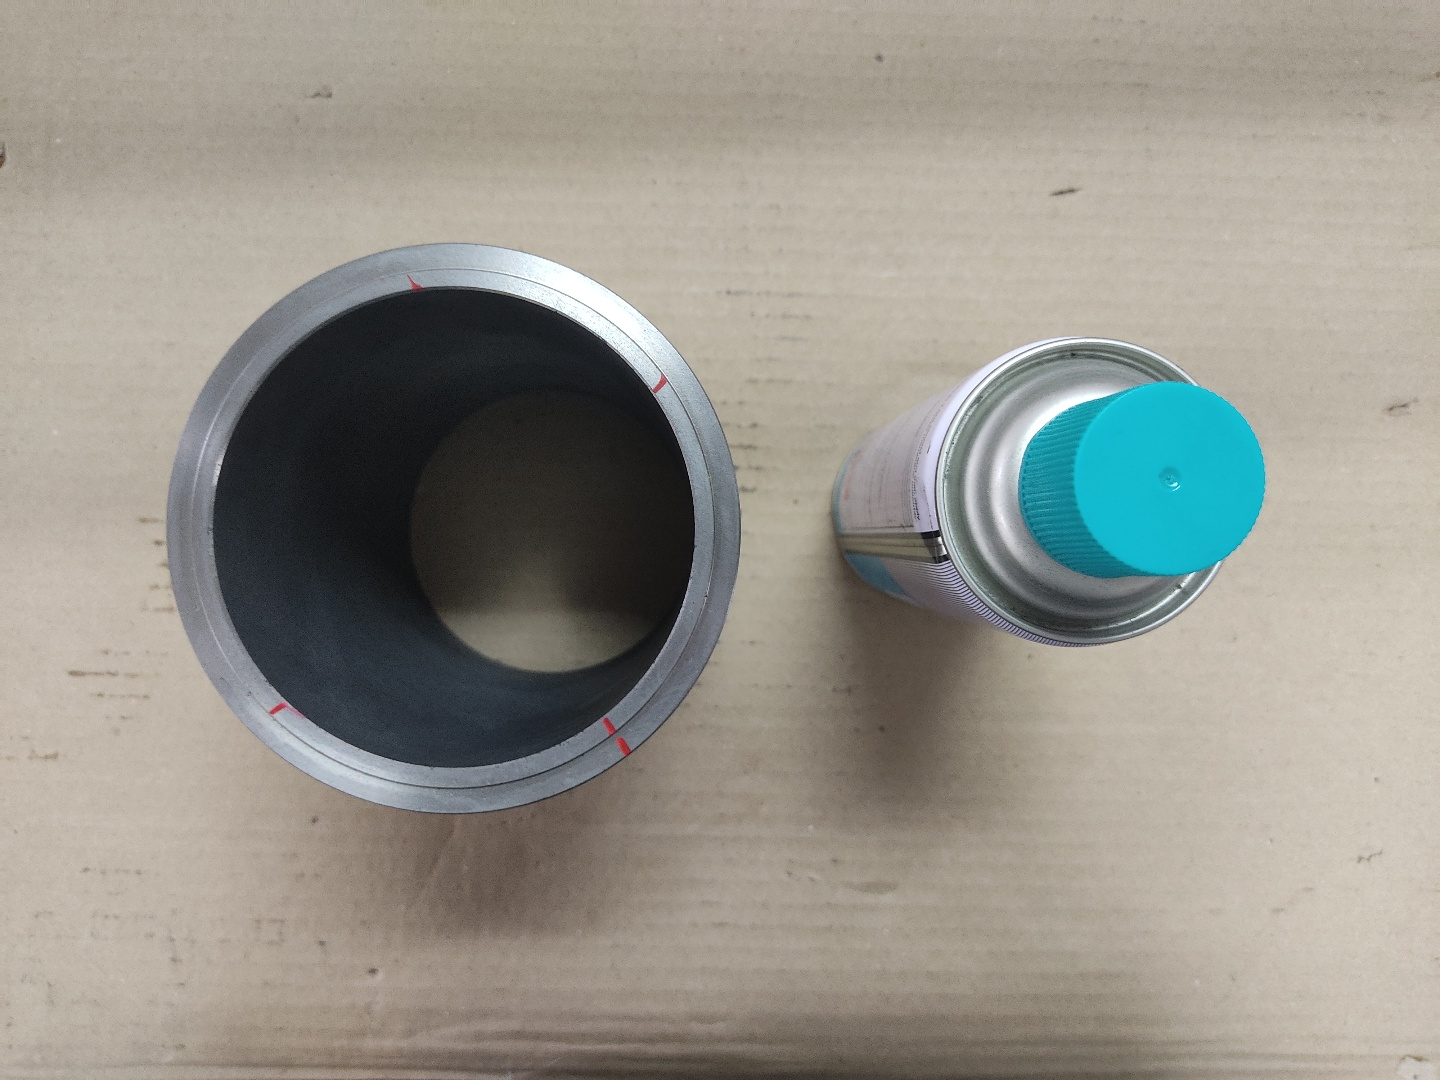cylinder: (158, 236, 749, 822)
